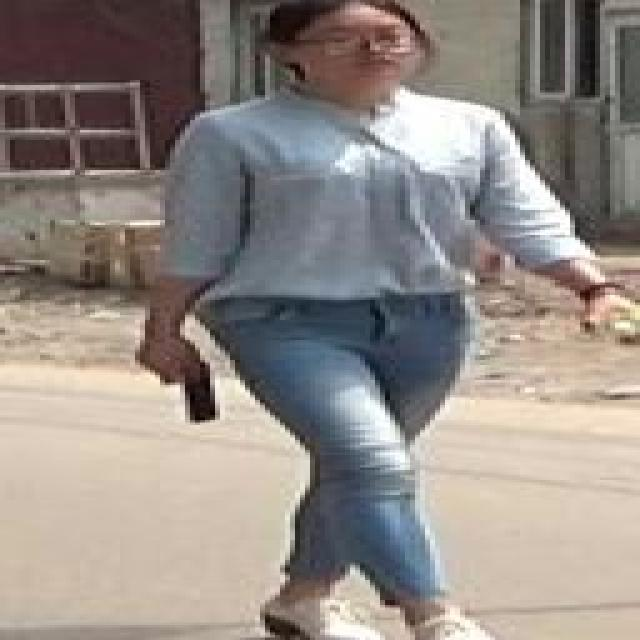adult: (132, 0, 626, 640)
